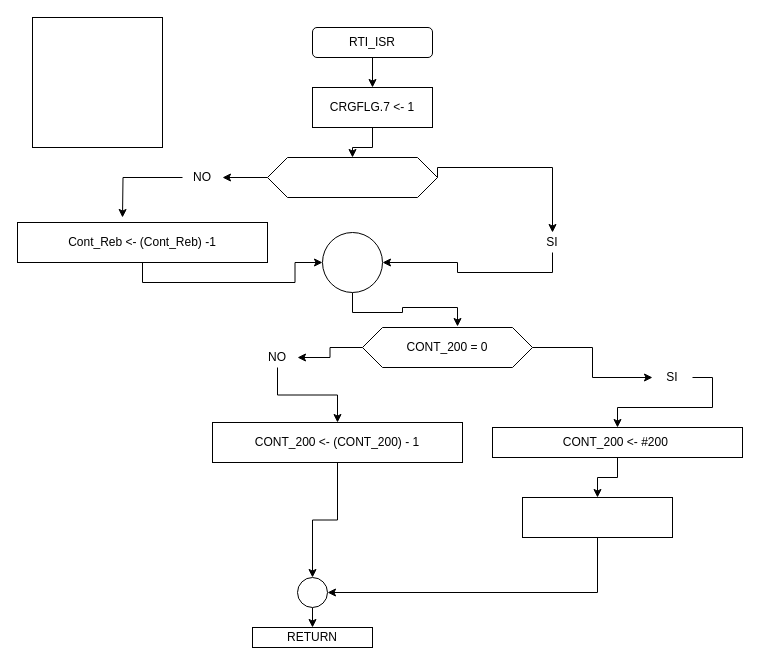
The diagram is 760 pixels wide and 665 high, and some of its shapes have lost their labels. The shapes that lost their labels are listed below. From the top down, each one's centre as x and y in pixels, then its label:
At point (97, 82): "C - carry K. - Y J - X R1 - A R2 - B RR1 - D".
At point (352, 177): "Cont_Reb = 0".
At point (597, 517): "ATD0CTL5 <- %.1000111".
